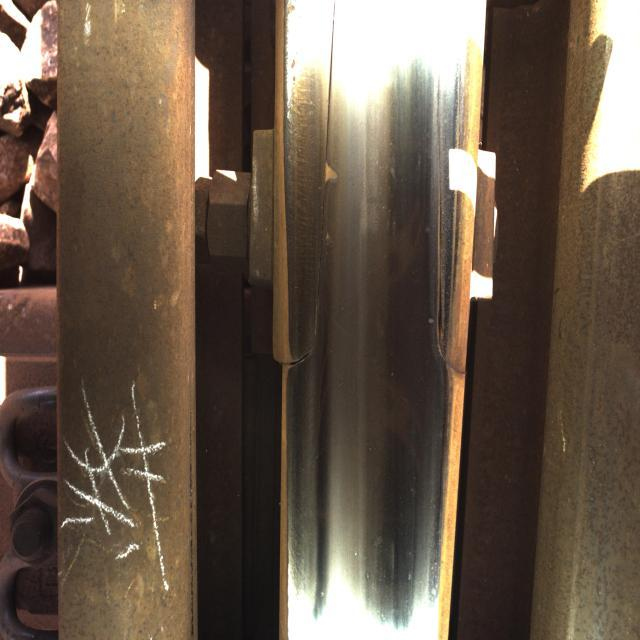break: (353, 51, 442, 609)
